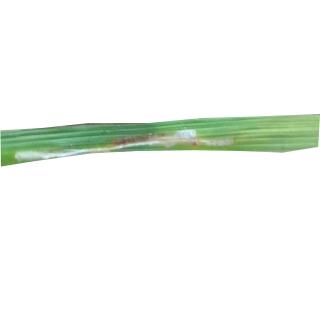Hawar-Daun: (124, 134, 238, 144), (15, 148, 68, 158), (175, 125, 198, 148)
